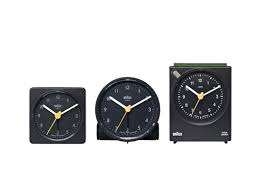alarm_clock: (26, 62, 234, 142)
